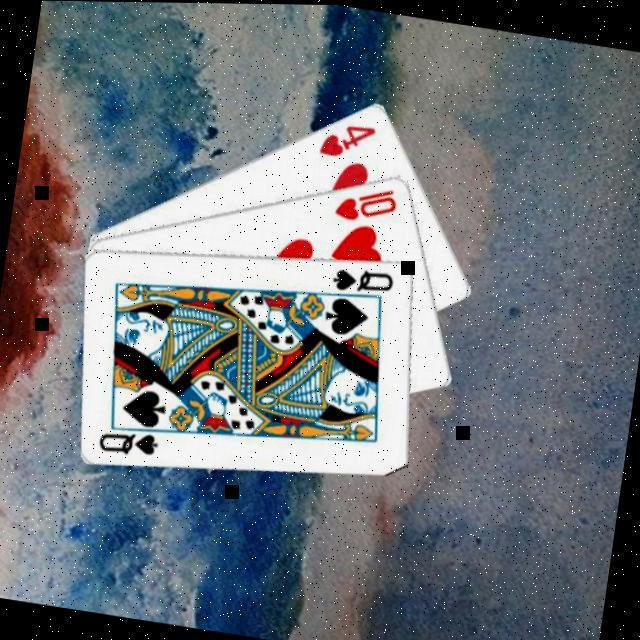10H: (332, 175, 404, 227)
4H: (318, 112, 382, 163)
QS: (330, 258, 400, 298), (96, 420, 164, 460)
